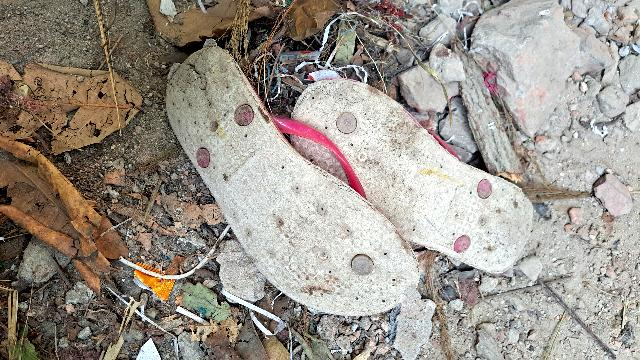sandal: (115, 22, 440, 356), (267, 62, 566, 285)
